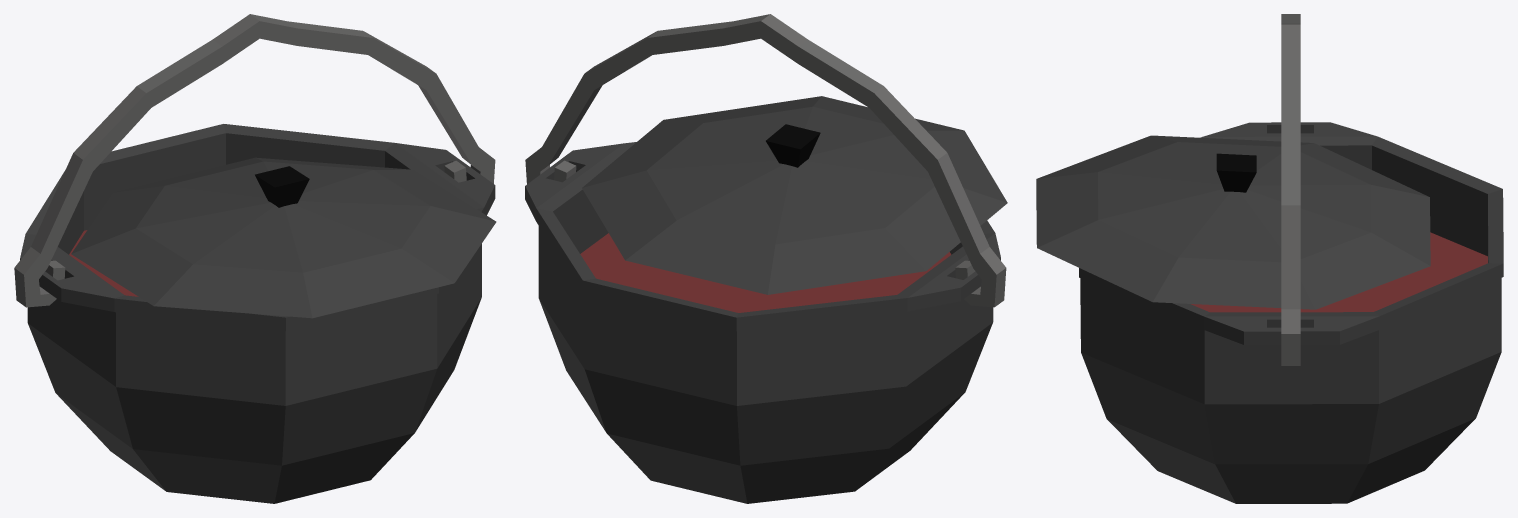
File: Cauldron_with_cover.fbx
The picture shows the model from 3 angles, left to right: view 1: azimuth 30°, elevation 25°; view 2: azimuth 150°, elevation 25°; view 3: azimuth 270°, elevation 25°; orthographic projection.
Visible parts, largest first — view 1: cauldron, cover_for_cauldron.001, Handle_for_cauldron; view 2: cauldron, cover_for_cauldron.001, Handle_for_cauldron; view 3: cauldron, cover_for_cauldron.001, Handle_for_cauldron.
Part boxes in pixels (x1,y1,x2,y2): cauldron: (20, 124, 495, 503); cover_for_cauldron.001: (71, 157, 496, 318); Handle_for_cauldron: (14, 14, 495, 307); cauldron: (525, 142, 1000, 503); cover_for_cauldron.001: (582, 96, 1007, 294); Handle_for_cauldron: (525, 14, 1006, 307); cauldron: (1079, 122, 1503, 503); cover_for_cauldron.001: (1036, 135, 1430, 309); Handle_for_cauldron: (1281, 14, 1300, 365).
Bounding box in the file's own units: 43.41 × 37.44 × 37.54.
